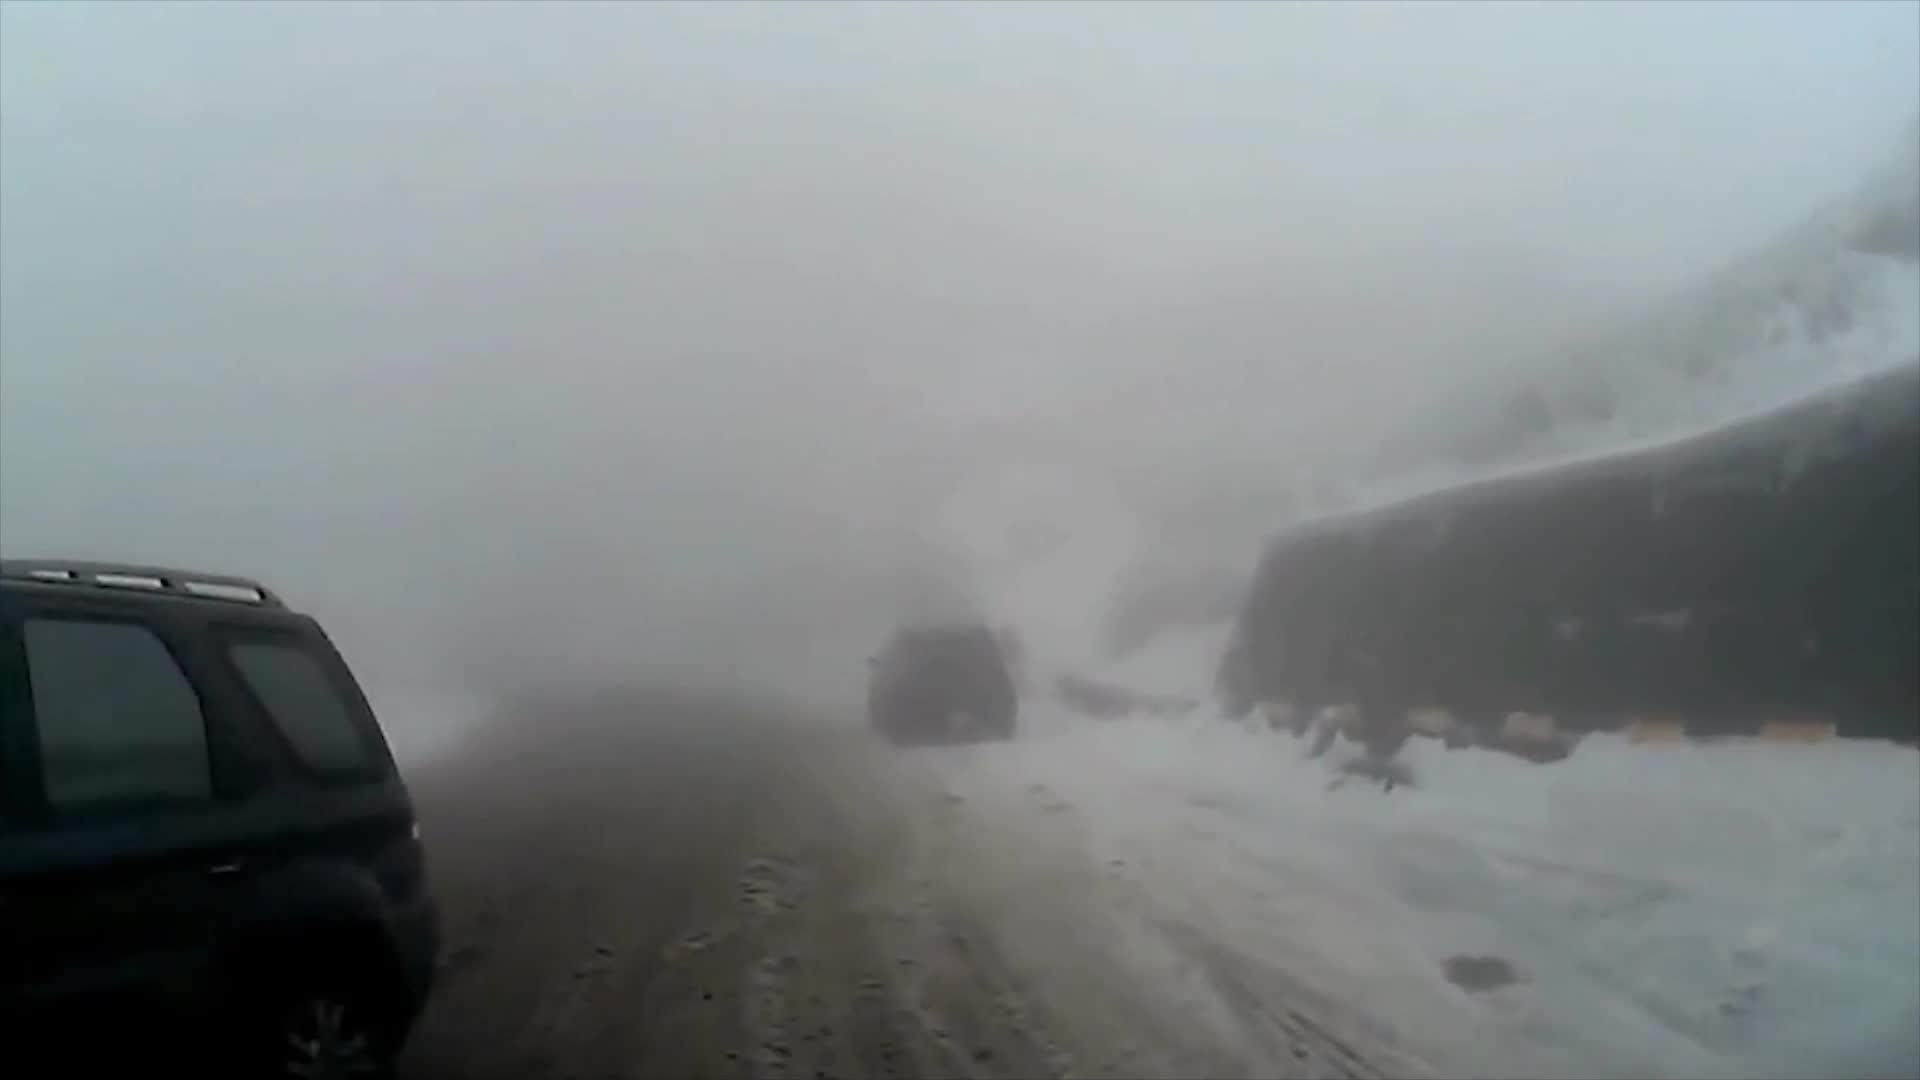vehicle: (0, 555, 443, 1073), (862, 615, 1015, 746)
